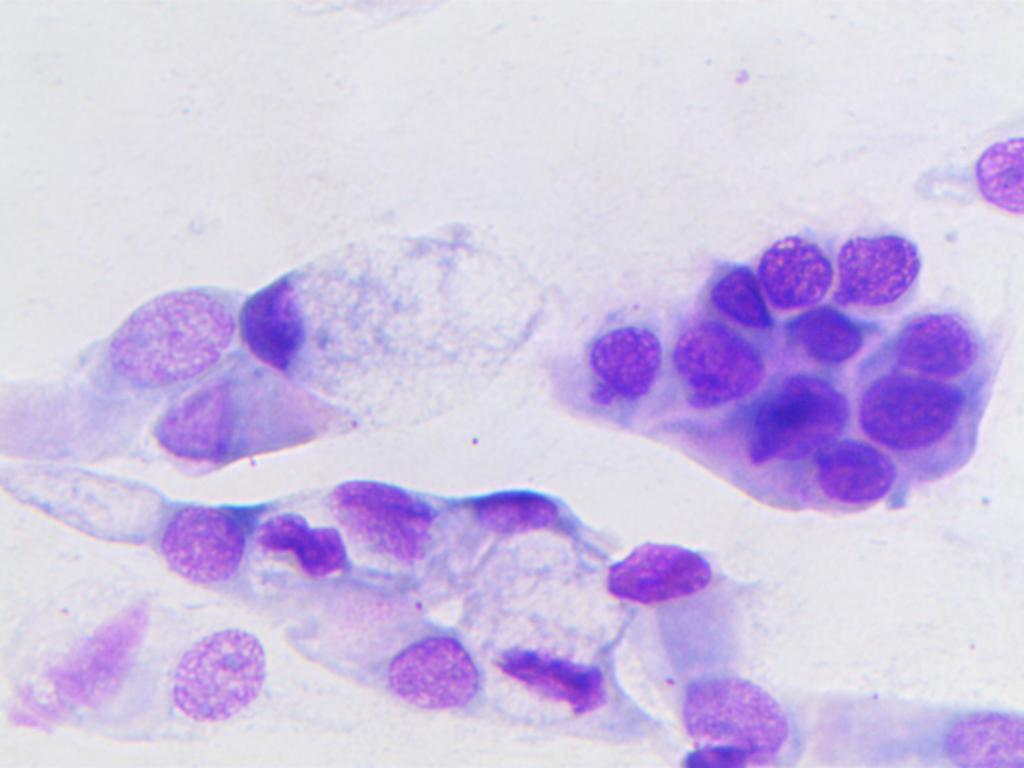artifact: (0, 600, 163, 728), (493, 633, 611, 726)
ciliated: (0, 277, 233, 459), (0, 469, 249, 593), (660, 546, 797, 760), (807, 666, 1024, 768)
epithelial: (160, 620, 270, 743), (312, 469, 444, 571), (157, 388, 349, 458), (569, 309, 670, 434), (584, 522, 726, 608), (834, 201, 936, 309), (855, 366, 974, 446), (748, 367, 847, 463), (666, 319, 767, 410), (953, 129, 1024, 252), (253, 496, 357, 579), (462, 478, 584, 548), (762, 211, 834, 311), (811, 437, 899, 508), (697, 261, 775, 326), (784, 299, 862, 364), (901, 307, 979, 372)
goblet_cell: (232, 234, 520, 404), (271, 570, 485, 718)
